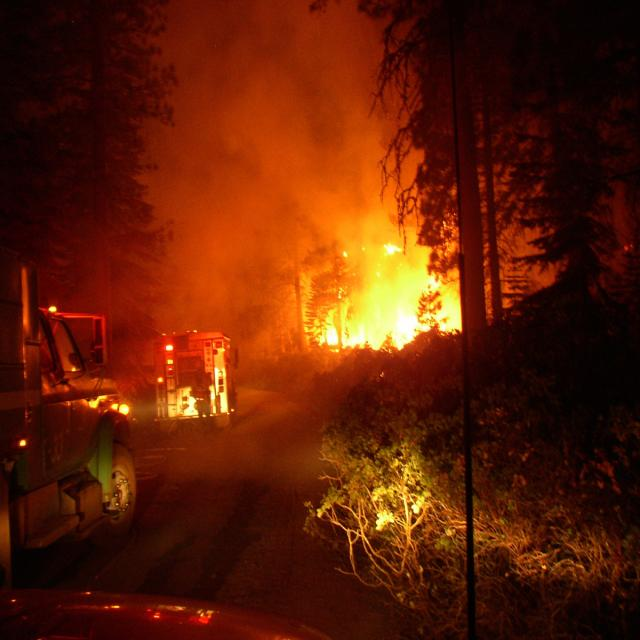Fire: (325, 239, 465, 346)
Smoke: (150, 0, 402, 339)
